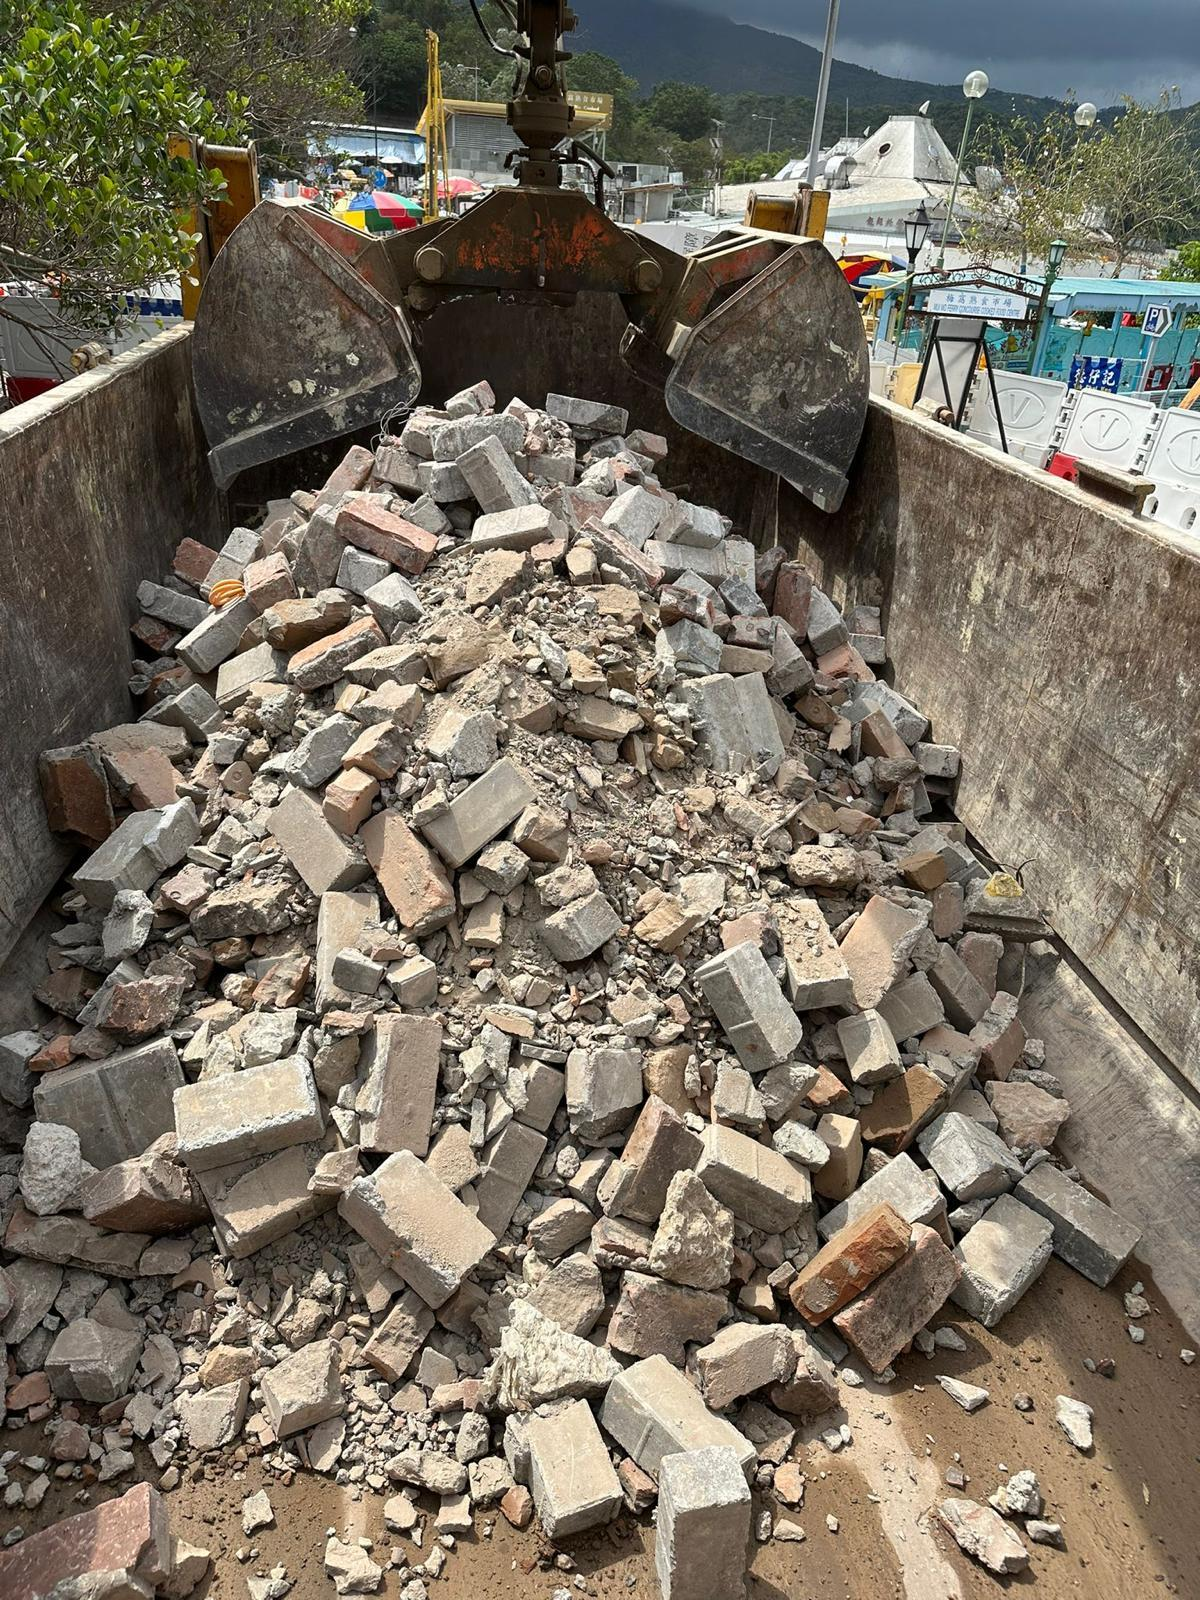dry: (3, 420, 1088, 1480)
